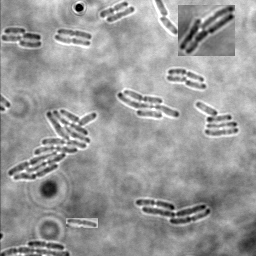Dividing: (167, 67, 204, 81), (99, 1, 128, 18), (54, 34, 90, 47), (56, 28, 92, 39), (27, 239, 64, 249), (66, 218, 98, 228)
Microcolony: (7, 109, 98, 180), (178, 5, 235, 56), (117, 88, 180, 119), (135, 199, 211, 224), (195, 101, 238, 136), (1, 27, 42, 48)
Rod: (106, 5, 135, 23), (157, 16, 177, 34), (184, 79, 206, 89), (166, 73, 187, 82)
